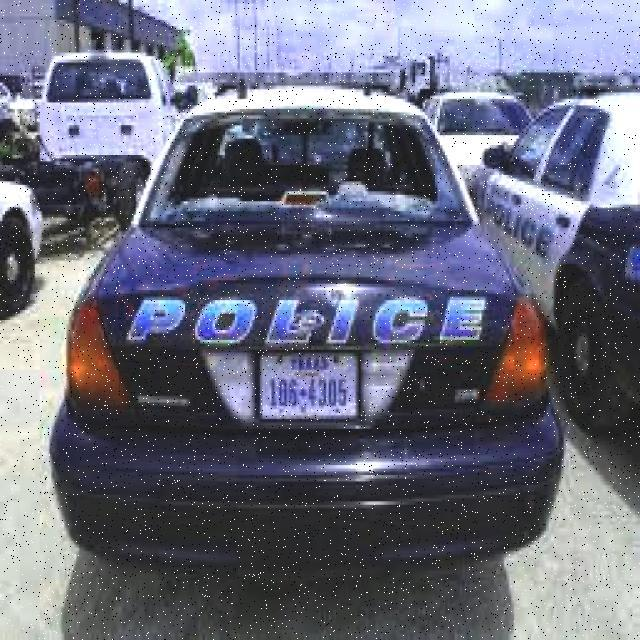car damage: (146, 105, 472, 218)
